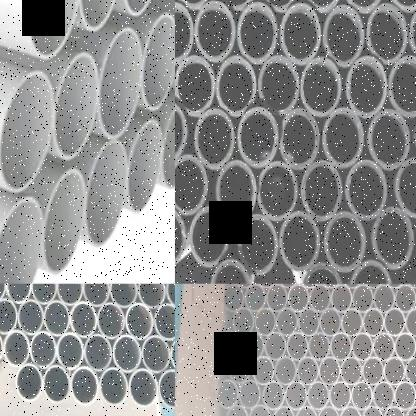pipe: (0, 66, 57, 194), (82, 140, 132, 250), (41, 166, 90, 277), (100, 25, 146, 142), (54, 50, 102, 161), (0, 196, 45, 284), (127, 116, 165, 219), (26, 0, 82, 62), (143, 12, 175, 109), (237, 106, 279, 168), (280, 3, 321, 66), (368, 109, 410, 170), (366, 3, 408, 64), (372, 207, 413, 269), (279, 108, 320, 170), (346, 57, 387, 119), (323, 5, 364, 67), (237, 2, 278, 64), (279, 211, 320, 272), (345, 161, 387, 220), (322, 109, 364, 168), (324, 212, 365, 272), (301, 161, 342, 221), (238, 215, 278, 276), (189, 206, 229, 267), (217, 160, 257, 221), (195, 1, 235, 62), (257, 162, 298, 221), (215, 57, 256, 116), (195, 108, 234, 170), (175, 56, 214, 118), (259, 56, 299, 115), (301, 58, 341, 116), (175, 155, 207, 214), (157, 93, 175, 192), (388, 56, 416, 118), (79, 0, 122, 32), (394, 157, 416, 217), (128, 369, 158, 409), (140, 335, 170, 375), (70, 367, 100, 406), (98, 368, 128, 407), (112, 335, 142, 374), (175, 2, 194, 63), (124, 303, 154, 341), (15, 364, 44, 403), (84, 334, 112, 372), (17, 299, 45, 337), (30, 331, 57, 370), (43, 365, 70, 404), (57, 333, 84, 371), (211, 259, 252, 284), (4, 330, 30, 369), (98, 303, 125, 340), (70, 302, 97, 339), (44, 300, 70, 338), (350, 260, 391, 284), (301, 262, 342, 284), (154, 303, 175, 341), (175, 100, 187, 162), (261, 381, 286, 410), (108, 284, 138, 308), (157, 370, 175, 410), (274, 356, 298, 386), (275, 307, 299, 337), (138, 284, 166, 309), (284, 381, 308, 410), (228, 355, 252, 384), (306, 381, 330, 410), (263, 332, 287, 361), (252, 356, 275, 386), (318, 356, 341, 386), (362, 356, 385, 386), (296, 356, 319, 386), (219, 330, 242, 360), (340, 356, 363, 386), (329, 382, 352, 412), (383, 356, 406, 386), (351, 332, 374, 362), (372, 382, 395, 412), (393, 380, 416, 410), (175, 206, 186, 268), (122, 0, 162, 17), (238, 380, 261, 409), (242, 332, 265, 361), (232, 307, 255, 336), (393, 332, 416, 361), (383, 308, 406, 337), (216, 380, 239, 409), (393, 283, 416, 312), (286, 332, 309, 361), (330, 284, 353, 313), (319, 308, 342, 337), (351, 284, 374, 313), (362, 308, 385, 337), (254, 307, 276, 337), (373, 332, 395, 362), (351, 382, 373, 412), (330, 332, 352, 362), (373, 284, 395, 314), (82, 284, 110, 307), (244, 284, 267, 312), (287, 284, 310, 312), (341, 308, 363, 337), (309, 284, 331, 313), (308, 332, 330, 361), (298, 308, 320, 336), (266, 284, 288, 312), (0, 299, 17, 335), (223, 284, 244, 312), (57, 284, 83, 306), (31, 284, 58, 305), (302, 0, 342, 13), (6, 284, 32, 304), (344, 0, 385, 12), (260, 0, 300, 12), (409, 2, 416, 64), (218, 0, 258, 10), (404, 356, 416, 386), (175, 0, 214, 9), (387, 0, 416, 12), (404, 308, 416, 337), (225, 404, 249, 416), (249, 404, 272, 416), (271, 405, 295, 416), (294, 405, 317, 416), (339, 405, 362, 416), (360, 405, 383, 416), (165, 284, 175, 309), (317, 405, 339, 416), (383, 405, 405, 416), (404, 405, 416, 416), (0, 328, 3, 367), (0, 284, 6, 303)
